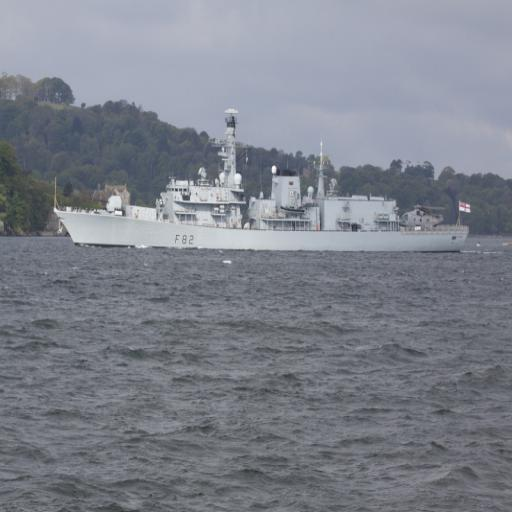Fragata: (52, 104, 475, 252)
